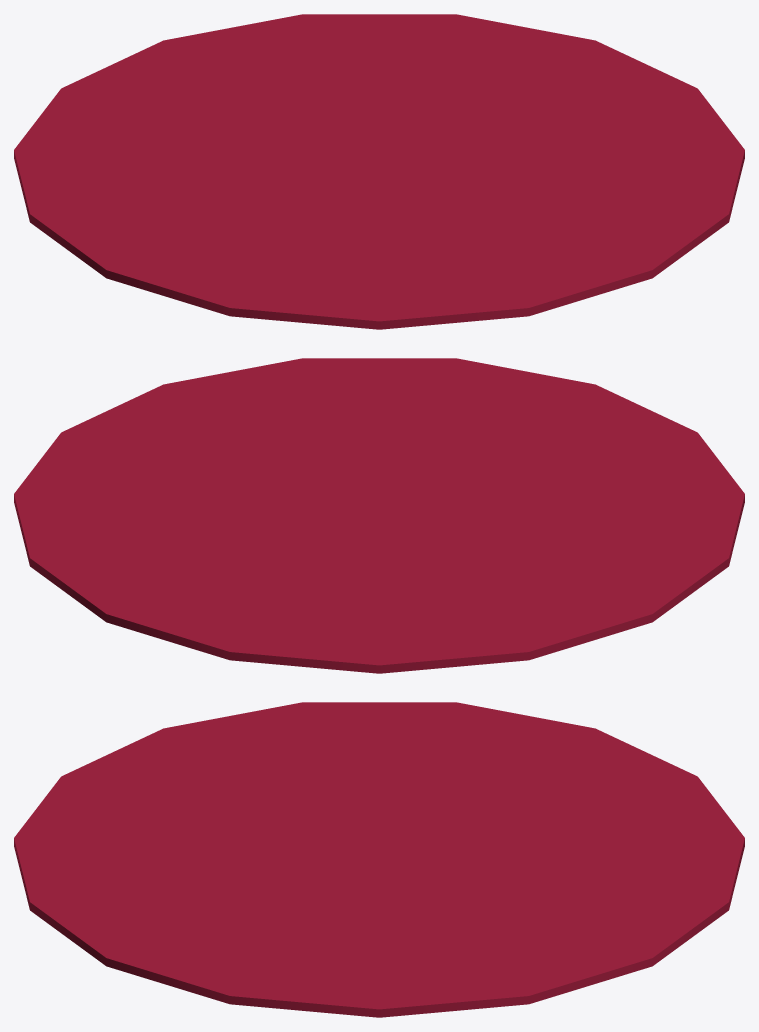
The model's file is Carpet_Text.fbx.
3 renders of one model, top to bottom at view 1: azimuth 30°, elevation 25°; view 2: azimuth 150°, elevation 25°; view 3: azimuth 270°, elevation 25°, orthographic.
Parts seen in each view (by area): view 1: Tapis; view 2: Tapis; view 3: Tapis.
Boxes of the visible parts, x1,y1,x2,y2 form: Tapis: [14, 14, 744, 329]; Tapis: [14, 358, 744, 673]; Tapis: [14, 702, 744, 1017].
Bounding box in the file's own units: 396 × 5 × 398.
1 material, 1 textured.
